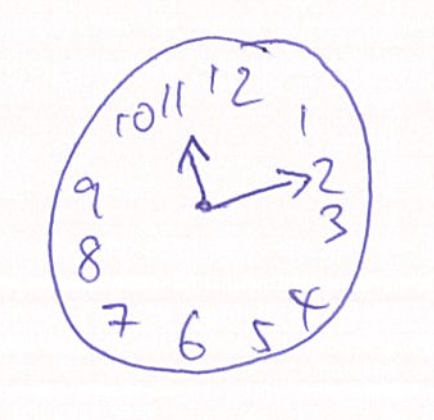1: (297, 101, 310, 138)
10: (113, 101, 156, 140)
11: (158, 79, 186, 120)
12: (206, 58, 264, 109)
2: (311, 153, 344, 198)
3: (318, 203, 347, 245)
4: (286, 283, 330, 333)
5: (247, 316, 275, 356)
6: (178, 304, 207, 363)
7: (100, 300, 140, 340)
8: (76, 233, 102, 287)
9: (71, 175, 104, 223)
contour: (44, 33, 377, 377)
hand: (176, 134, 311, 216)
top_left_arrow: (179, 134, 210, 201)
top_right_arrow: (208, 168, 319, 208)
